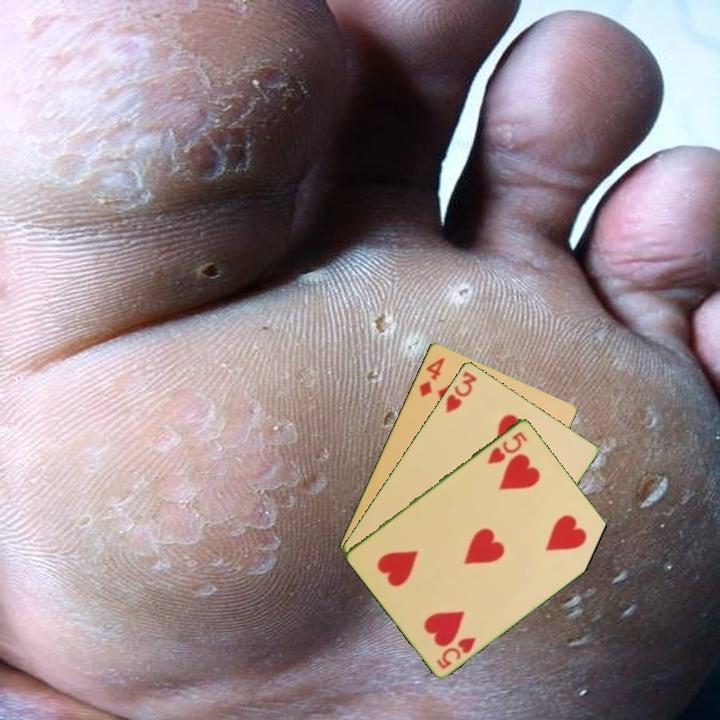3h: (442, 367, 480, 415)
4d: (415, 354, 448, 400)
5h: (484, 427, 530, 467), (432, 633, 479, 672)
